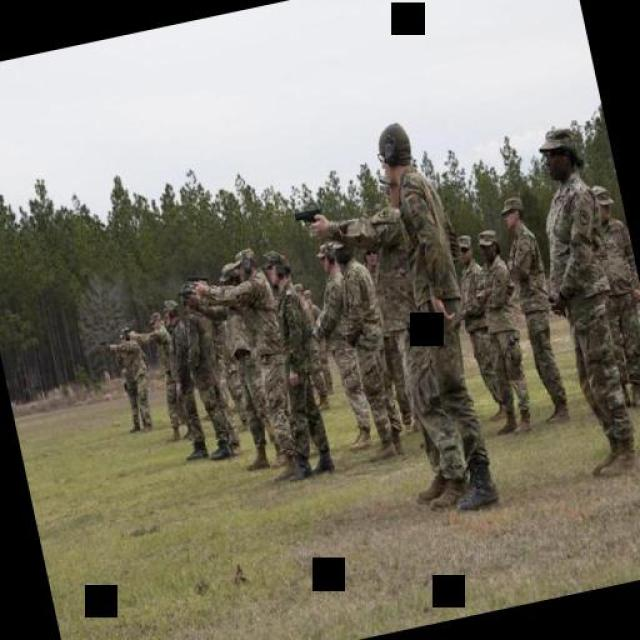gun: (282, 198, 324, 232), (184, 266, 208, 288), (174, 284, 192, 302)
